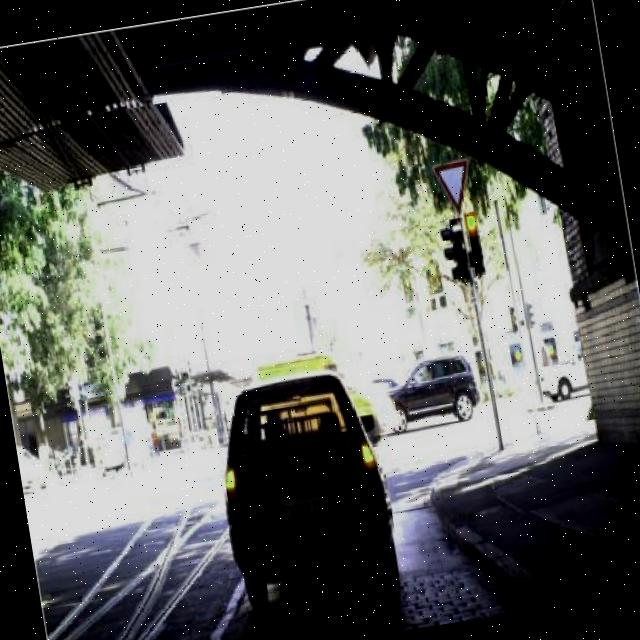Ustap pierwszenstwa: (430, 156, 478, 217)
